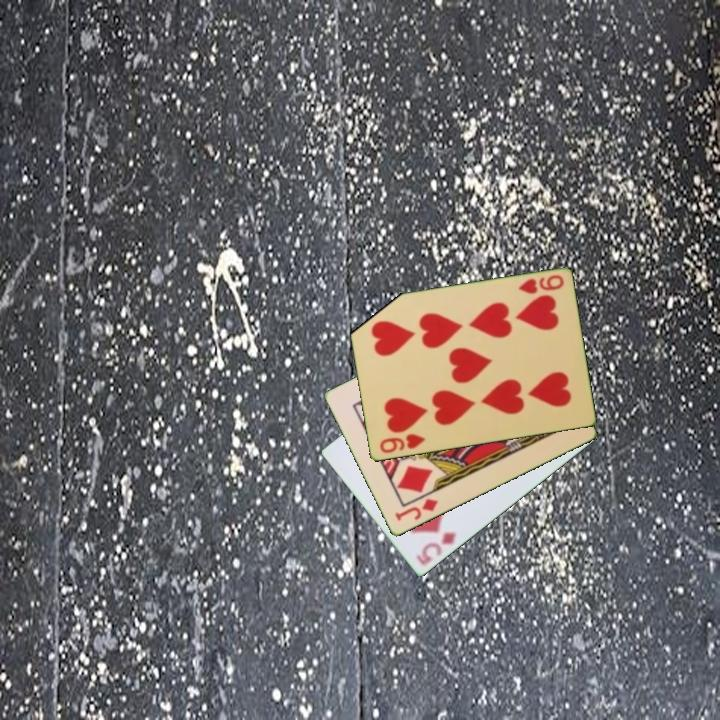5d: (413, 529, 460, 569)
9h: (376, 431, 428, 456), (515, 272, 567, 297)
Jd: (391, 495, 441, 524)
